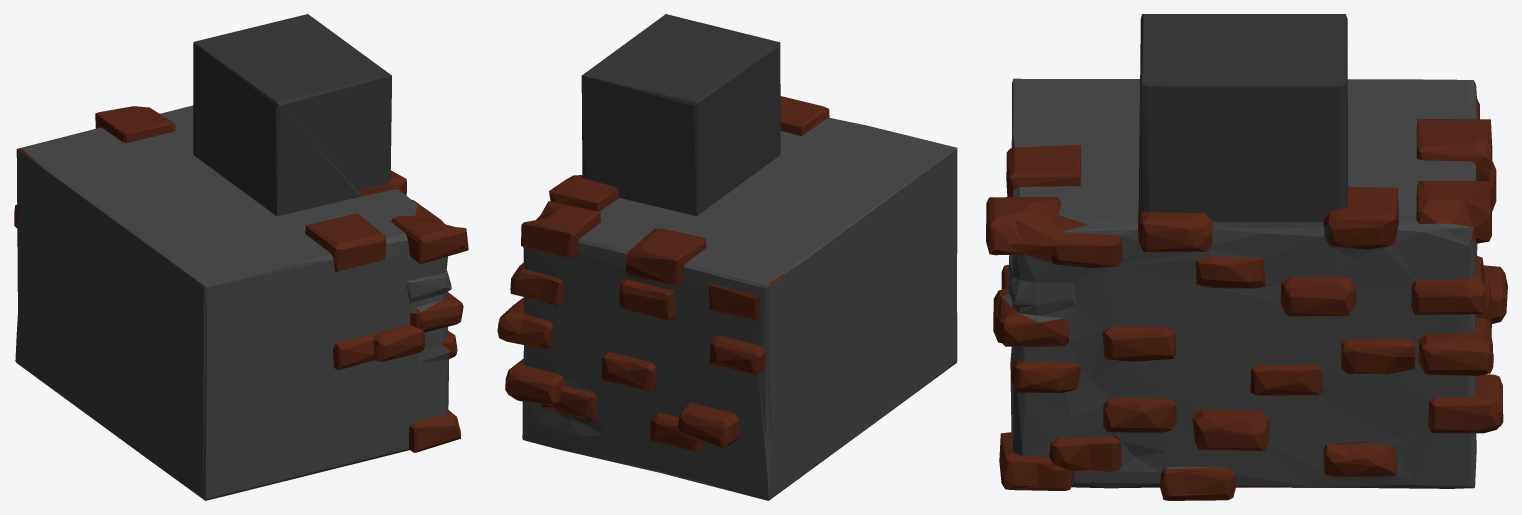
The model's file is fireplace.fbx.
3 renders of one model, left to right at view 1: azimuth 30°, elevation 25°; view 2: azimuth 150°, elevation 25°; view 3: azimuth 270°, elevation 25°, orthographic. The views are drawn at different scales.
Visible parts, largest first — view 1: fireplace; view 2: fireplace; view 3: fireplace.
Part boxes in pixels (x1,y1,x2,y2): fireplace: (14,14,468,500); fireplace: (497,14,957,500); fireplace: (986,14,1507,500).
Bounding box in the file's own units: 1.31 × 1.57 × 1.8.
